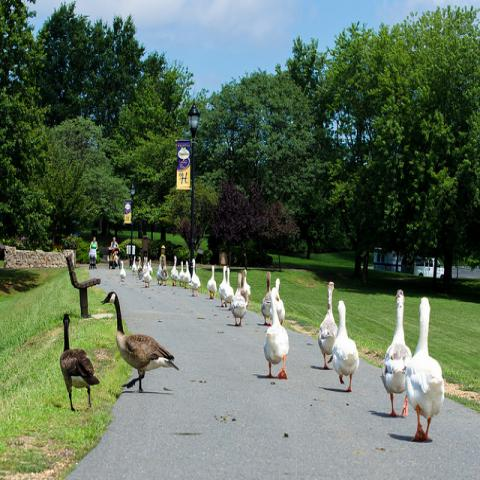car: (414, 258, 445, 278)
motorcycle: (88, 249, 96, 270)
